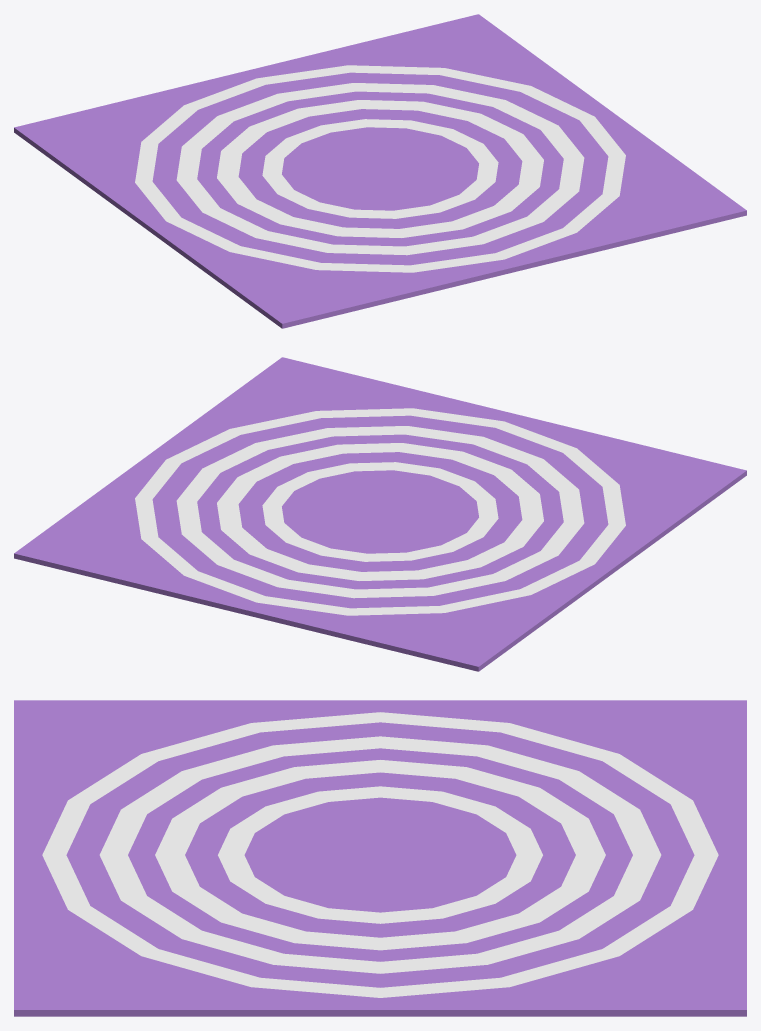
The model's file is Ground_31.fbx.
3 renders of one model, top to bottom at view 1: azimuth 30°, elevation 25°; view 2: azimuth 150°, elevation 25°; view 3: azimuth 270°, elevation 25°, orthographic. The views are drawn at different scales.
Parts seen in each view (by area): view 1: Ground_31; view 2: Ground_31; view 3: Ground_31.
Boxes of the visible parts, x1,y1,x2,y2 form: Ground_31: (14, 14, 746, 328); Ground_31: (14, 357, 746, 671); Ground_31: (14, 700, 746, 1016).
Size of the model in its own units: 3.61 by 0.0368 by 3.61.
